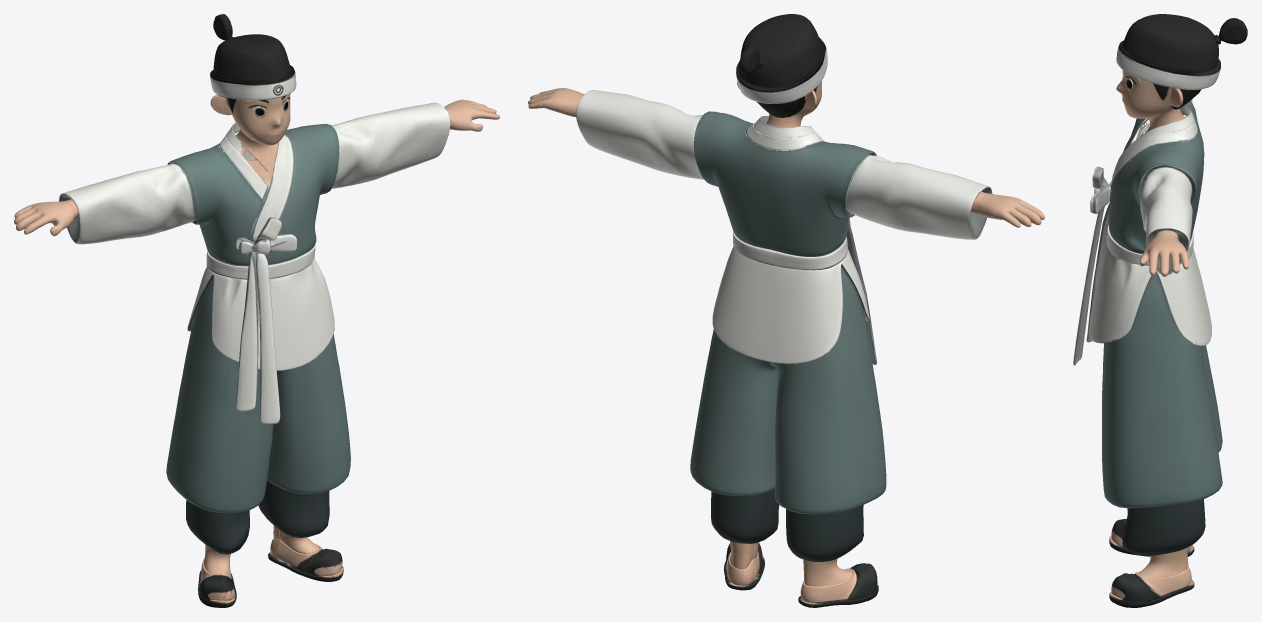
File: toonstudio_hanbok.glb
3 views of the same model, side by side, from view 1: azimuth 30°, elevation 25°; view 2: azimuth 150°, elevation 25°; view 3: azimuth 270°, elevation 25° (orthographic). The views are drawn at different scales.
Parts seen in each view (by area): view 1: tripo_8cd951c9_2415_4ab3_9668_76ce51ecb6ef; view 2: tripo_8cd951c9_2415_4ab3_9668_76ce51ecb6ef; view 3: tripo_8cd951c9_2415_4ab3_9668_76ce51ecb6ef.
Boxes of the visible parts, <box> form: tripo_8cd951c9_2415_4ab3_9668_76ce51ecb6ef: <box>14,14,499,607</box>; tripo_8cd951c9_2415_4ab3_9668_76ce51ecb6ef: <box>528,14,1044,607</box>; tripo_8cd951c9_2415_4ab3_9668_76ce51ecb6ef: <box>1073,14,1247,607</box>.
Size of the model in its own units: 1.59 by 1.7 by 0.4842.
Materials: 1 (1 with a texture image).
